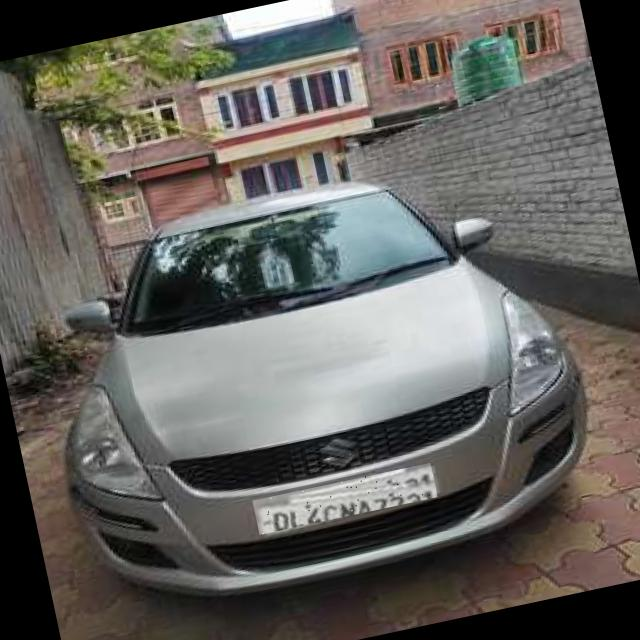Plate: (254, 463, 439, 535)
